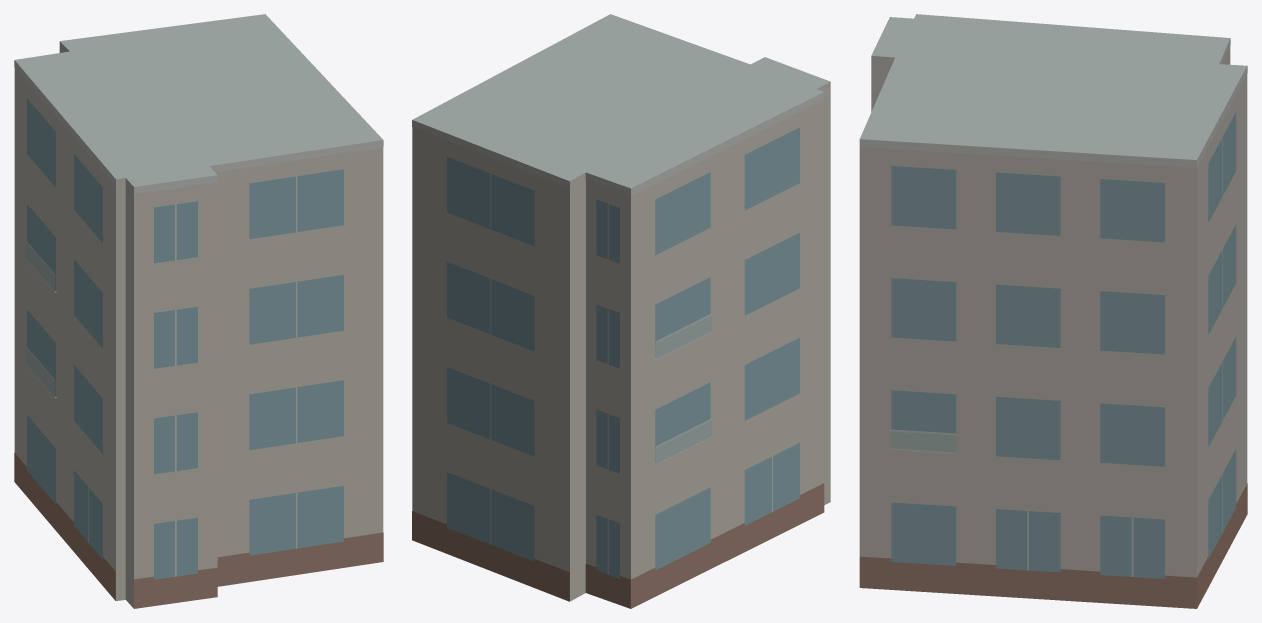
Rendered from survey-upis-32645504.glb.
The picture shows the model from 3 angles, left to right: view 1: azimuth 30°, elevation 25°; view 2: azimuth 150°, elevation 25°; view 3: azimuth 270°, elevation 25°; orthographic projection. The views are drawn at different scales.
Parts seen in each view (by area): view 1: survey-upis-32645504.tmp; view 2: survey-upis-32645504.tmp; view 3: survey-upis-32645504.tmp.
Boxes of the visible parts, x1,y1,x2,y2 form: survey-upis-32645504.tmp: [14, 14, 383, 608]; survey-upis-32645504.tmp: [412, 14, 830, 608]; survey-upis-32645504.tmp: [859, 14, 1247, 608].
Bounding box in the file's own units: 10.03 × 14.35 × 11.25.
